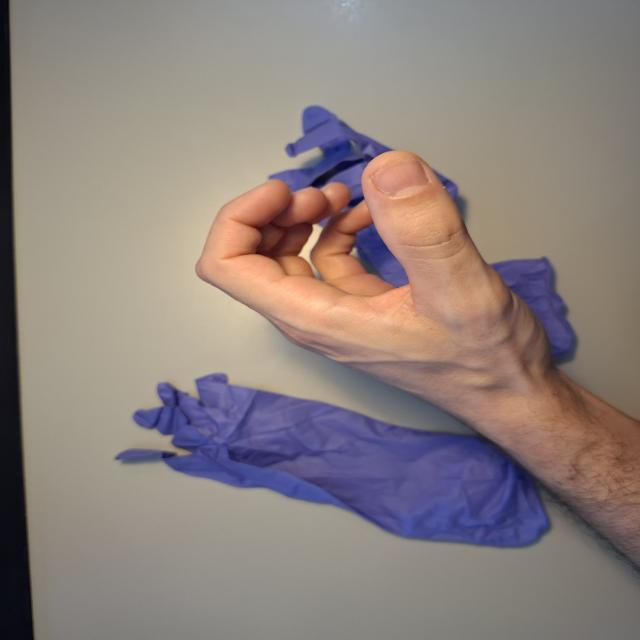glove_off: (191, 145, 568, 396)
